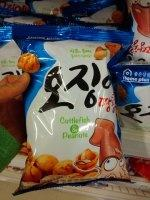snack: (12, 22, 136, 196)
